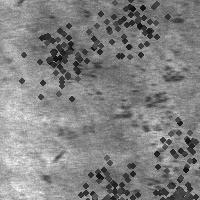rolled-in_scale: (9, 4, 115, 110), (116, 38, 184, 194), (79, 0, 179, 70), (134, 98, 200, 198), (49, 37, 105, 149), (64, 145, 160, 200), (141, 161, 200, 200)
